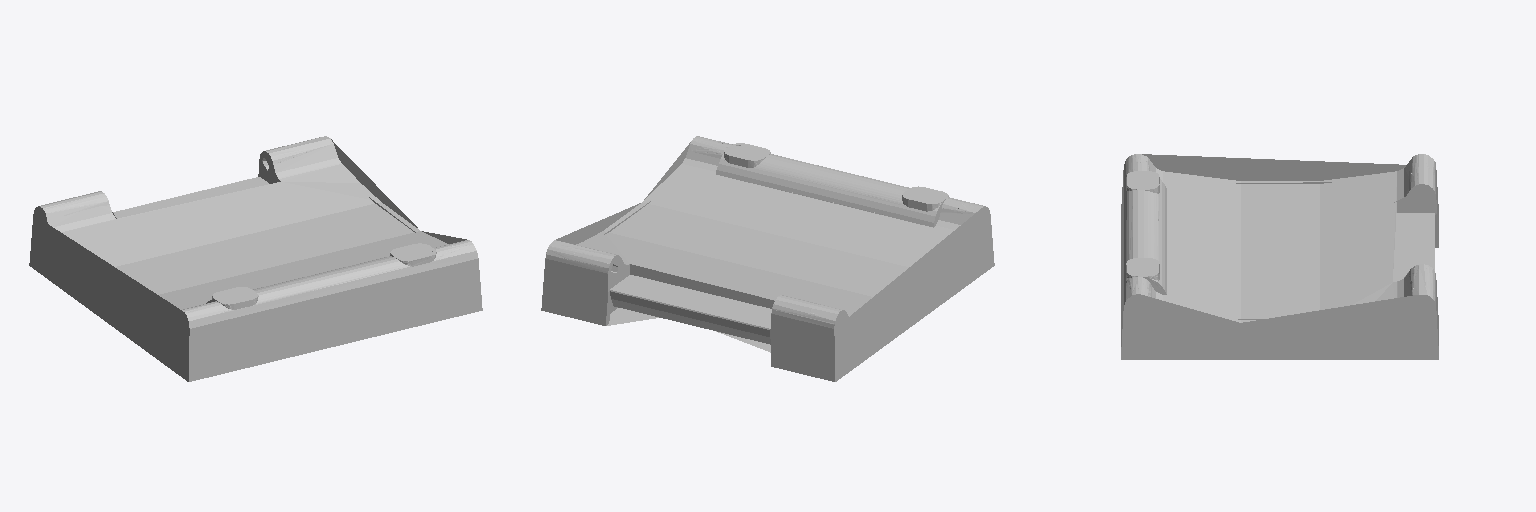
3 renders of one model, left to right at view 1: azimuth 30°, elevation 25°; view 2: azimuth 150°, elevation 25°; view 3: azimuth 270°, elevation 25°, orthographic.
Parts seen in each view (by area): view 1: 5418-Sr; view 2: 5418-Sr; view 3: 5418-Sr.
Part boxes in pixels (x1,y1,x2,y2): 5418-Sr: (29, 136, 482, 381); 5418-Sr: (541, 136, 994, 381); 5418-Sr: (1121, 154, 1438, 359).
Bounding box in the file's own units: 153 × 31.9 × 143.